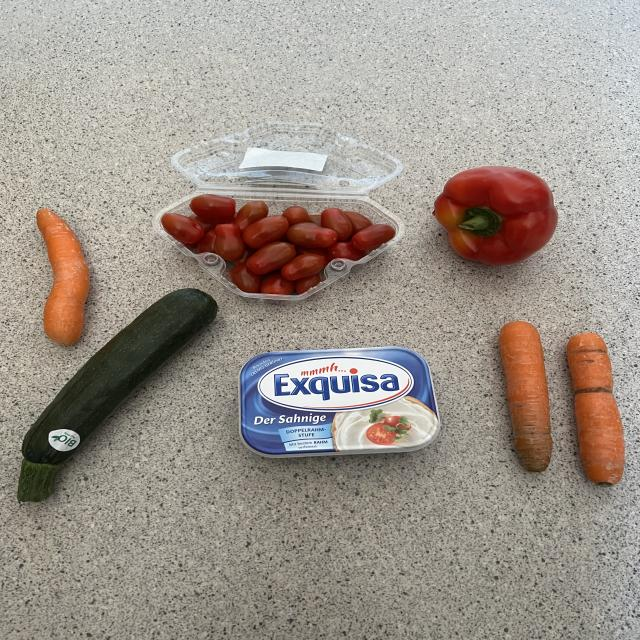bell_pepper: (438, 167, 558, 267)
carrot: (557, 328, 640, 497), (490, 316, 568, 482), (18, 199, 100, 353)
tomato: (186, 195, 346, 270)
zucchini: (14, 287, 214, 510)
